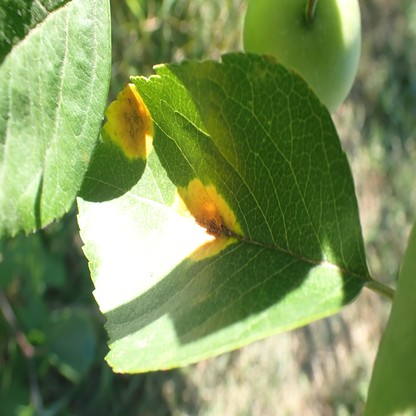rust: (169, 180, 244, 258), (105, 84, 154, 160)
